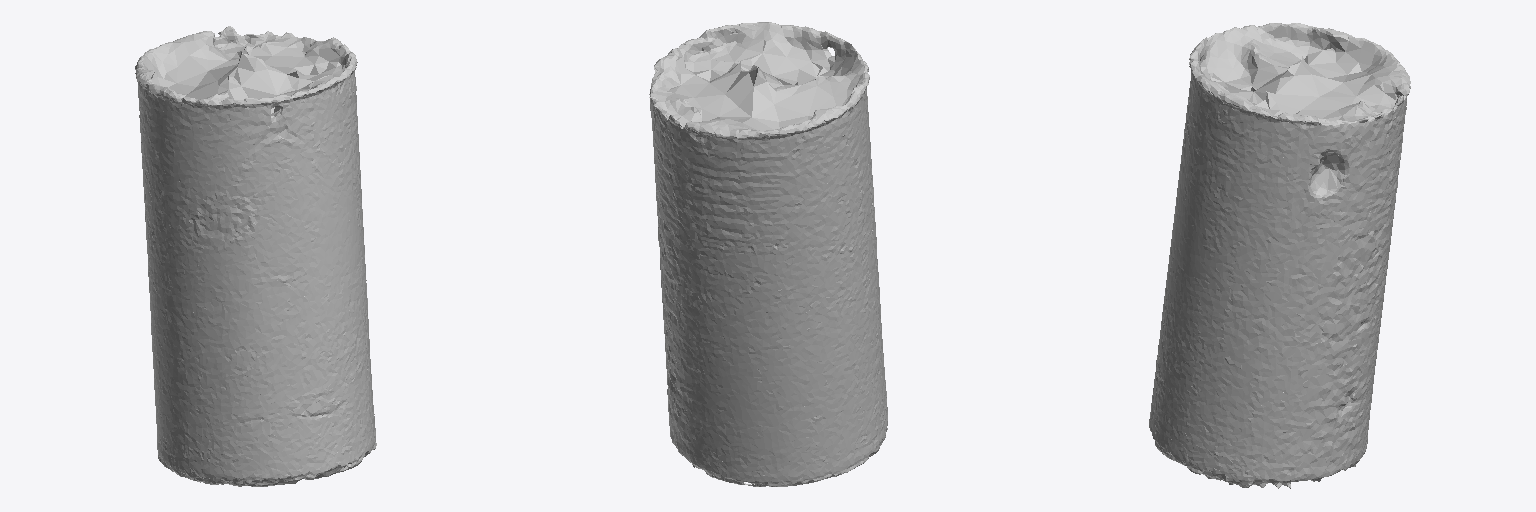
File: oats.obj
The picture shows the model from 3 angles: view 1: azimuth 30°, elevation 25°; view 2: azimuth 150°, elevation 25°; view 3: azimuth 270°, elevation 25°; orthographic projection.
Parts seen in each view (by area): view 1: oats; view 2: oats; view 3: oats.
Part boxes in pixels (left/top/right/bottom): oats: left=135, top=26, right=376, bottom=486; oats: left=649, top=22, right=887, bottom=486; oats: left=1149, top=23, right=1410, bottom=488.
Bounding box in the file's own units: 0.0846 × 0.1653 × 0.0987.